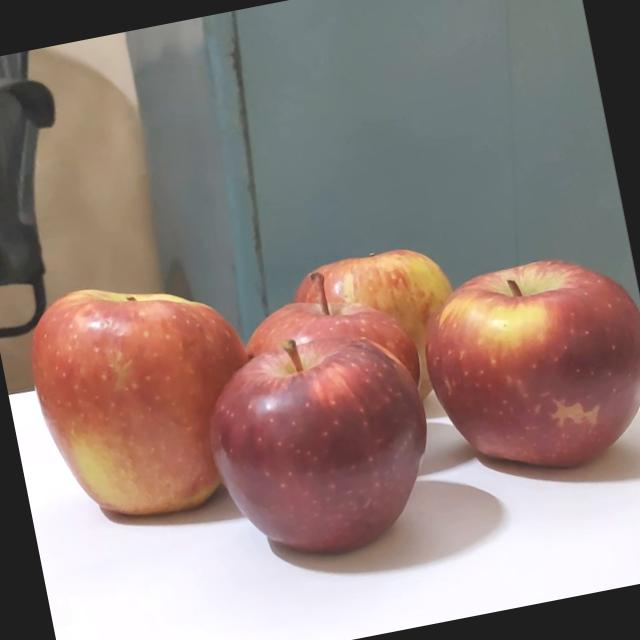apple: (38, 254, 286, 526), (178, 313, 427, 569), (402, 249, 640, 501), (237, 253, 442, 489), (321, 228, 504, 430)
